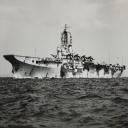Portanaves: (5, 21, 127, 81)
